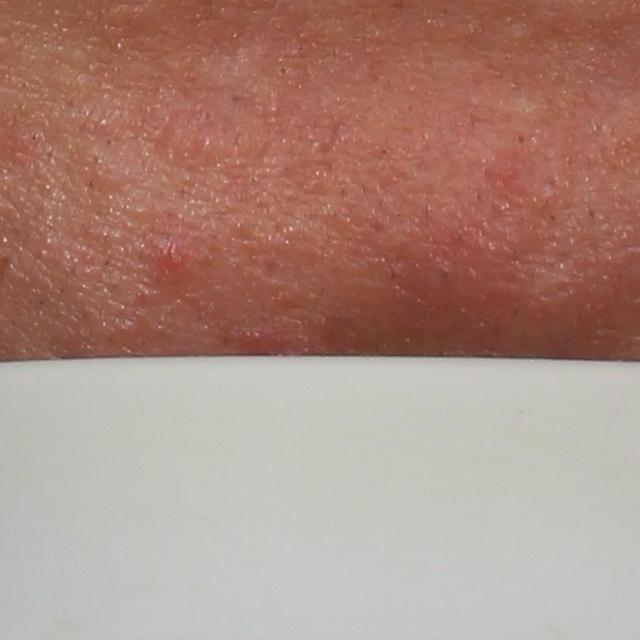hypertrophic_scar: (187, 45, 288, 118), (149, 111, 216, 168), (491, 98, 551, 125)
papule: (74, 144, 123, 192), (150, 229, 191, 273)
